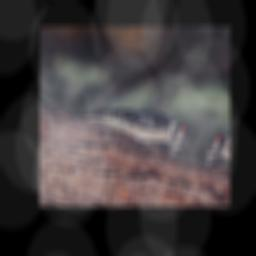Woodpecker: (64, 88, 198, 161)
